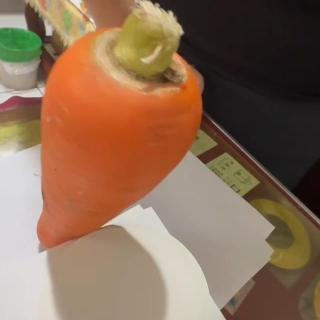carrot: (35, 3, 203, 252)
